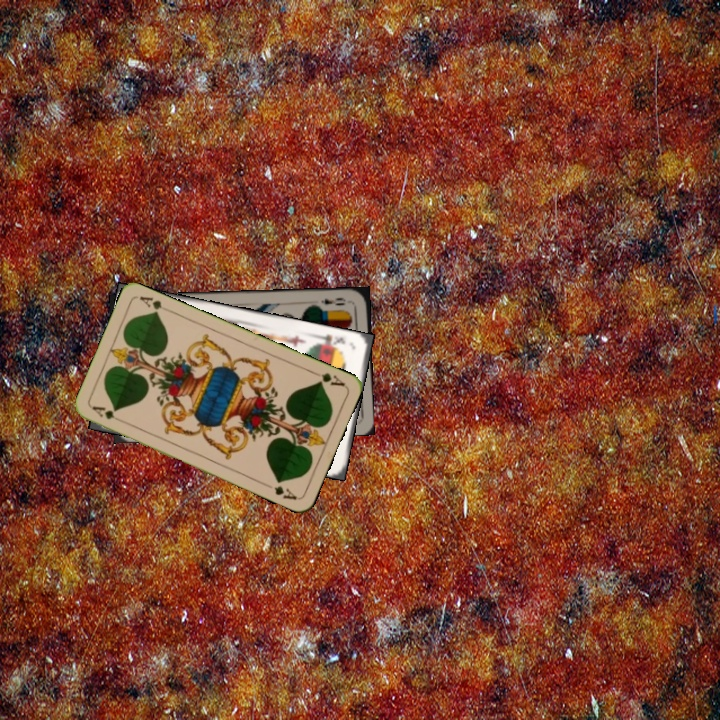EO: (317, 294, 348, 308)
GA: (88, 402, 126, 425), (308, 367, 347, 389)
SK: (314, 331, 348, 351)
